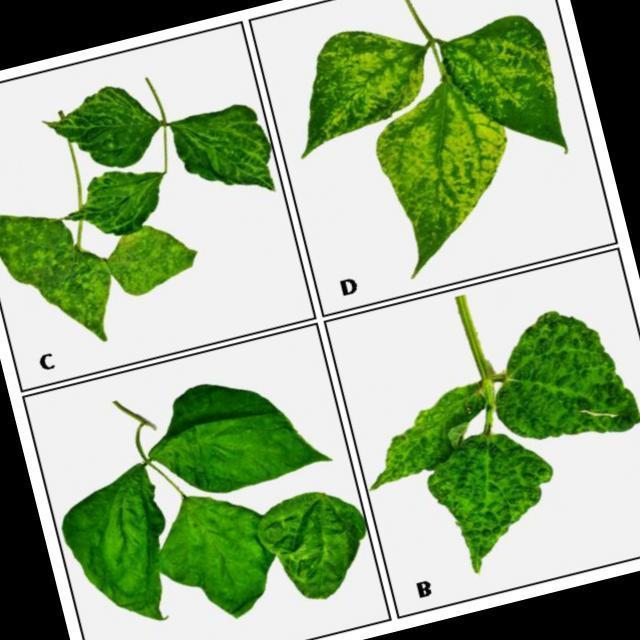Mosaic Virus: (136, 348, 328, 507), (359, 90, 516, 282), (50, 450, 192, 636), (274, 16, 444, 164), (475, 307, 640, 454), (439, 6, 568, 169), (418, 428, 548, 584), (358, 374, 502, 492), (2, 220, 130, 352), (26, 78, 163, 185), (162, 98, 280, 221), (102, 216, 213, 316), (52, 158, 174, 243)
